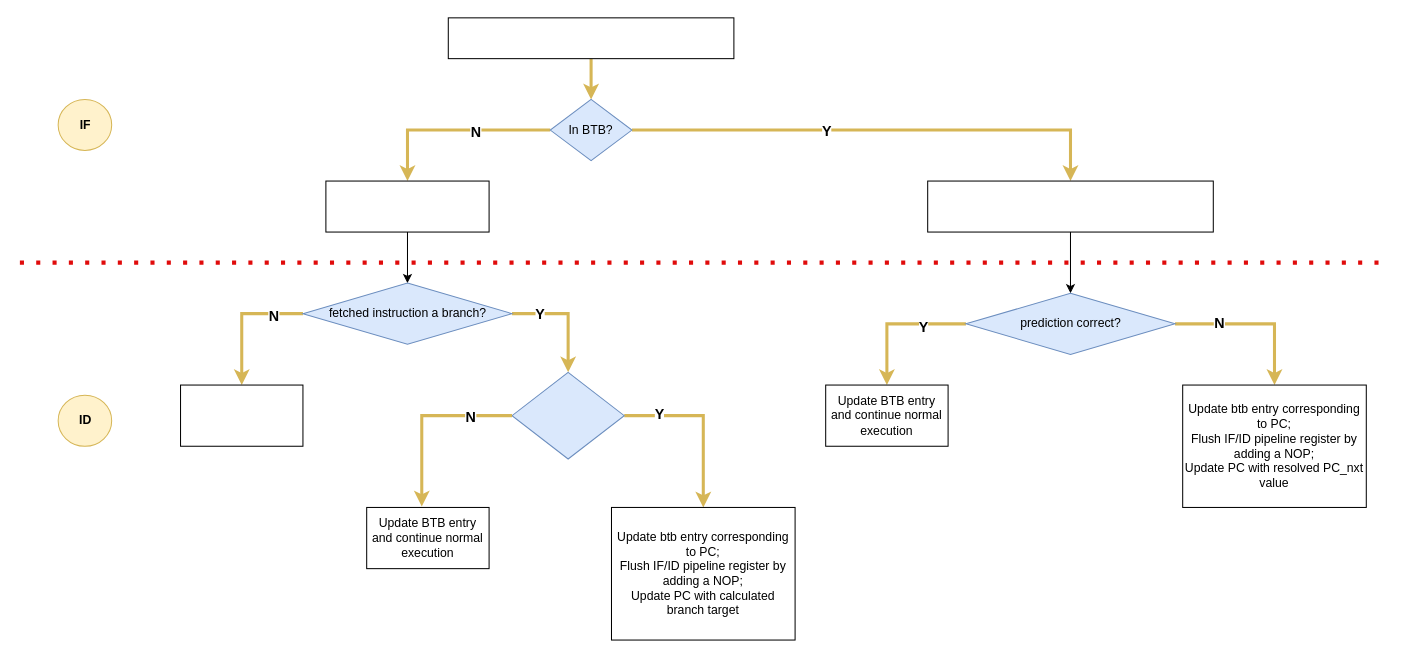
Some shapes in this 1407 by 658 pixel diagram are drawn without their labels. The shapes that lost their labels are listed below. From the top down, each one's box as (x1, y1, x2, y2) in pixels, then its label:
(447, 17, 734, 59): PC of instruction being fetched
(325, 180, 489, 232): PC_next = PC + 4 Instruction goes to ID state
(927, 180, 1213, 232): PC_next = branch_prediction ? btb.target : PC + 4 Instruction goes to ID stage
(180, 384, 303, 446): continue normal execution
(511, 371, 624, 459): branch taken?
